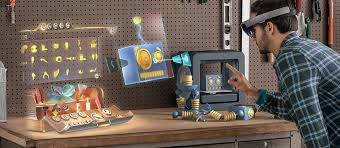hololens: (238, 8, 299, 38)
